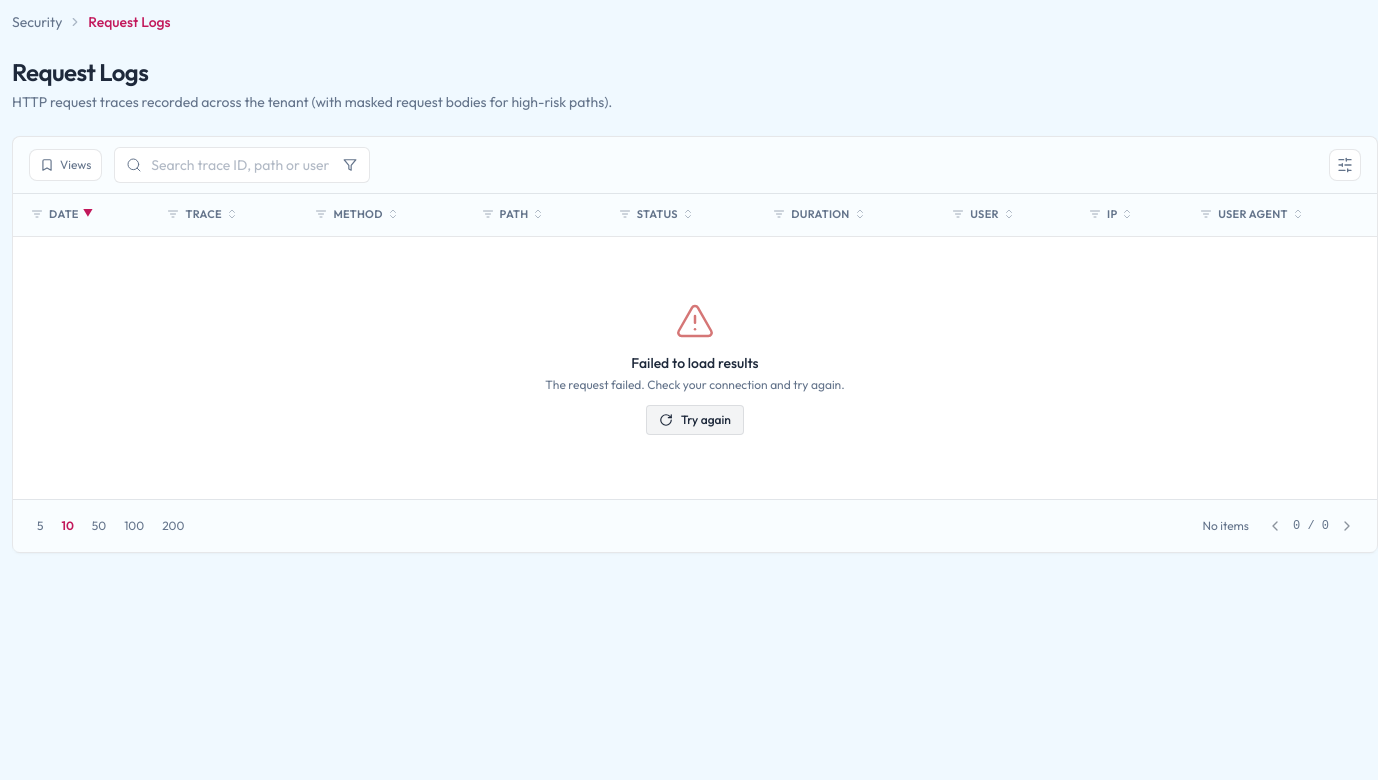
Test case: RequestLogsPage › shows the error panel with retry when the first load fails, then recovers (K-55 step 1)
Expected: the message is shown, top-left (545, 301), bottom-right (845, 435)
Expected: the text "Failed to load results" is shown, top-left (631, 354), bottom-right (759, 372)
Click the button "Try again".
click(695, 420)  # box top-left (646, 405), bottom-right (744, 435)
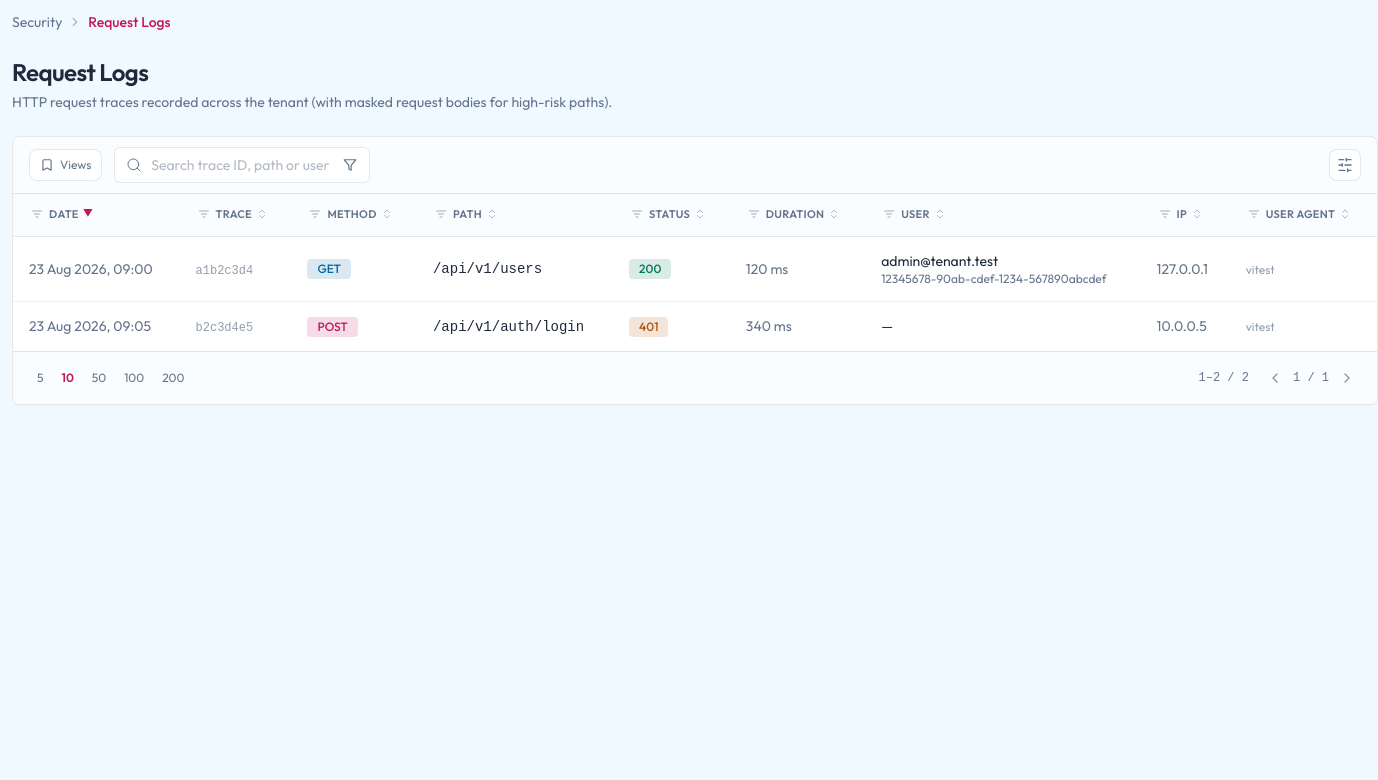
Expected: the text "/api/v1/users" is shown, top-left (433, 261), bottom-right (542, 277)
